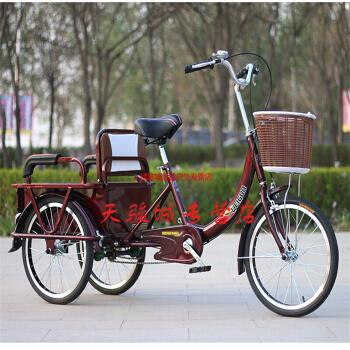empty: (13, 47, 341, 318)
